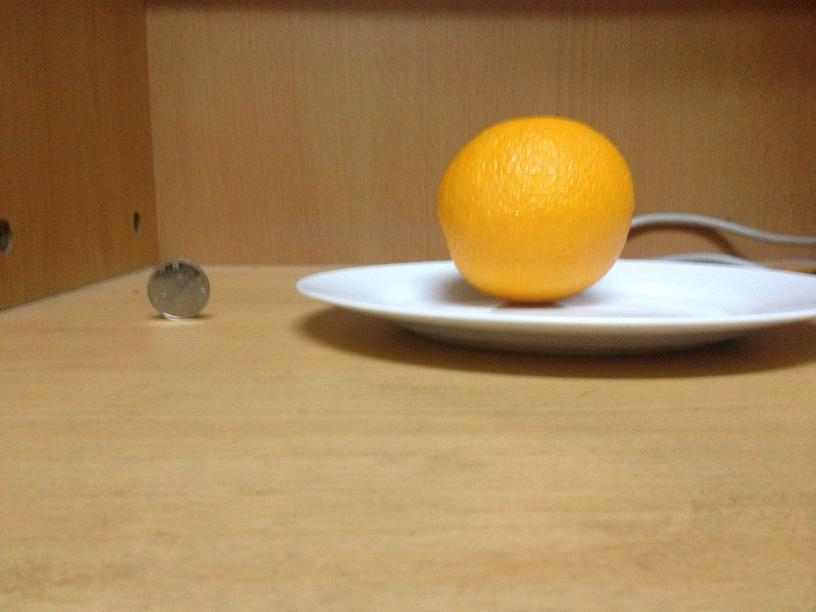coin: (146, 258, 211, 318)
orange: (435, 113, 631, 301)
